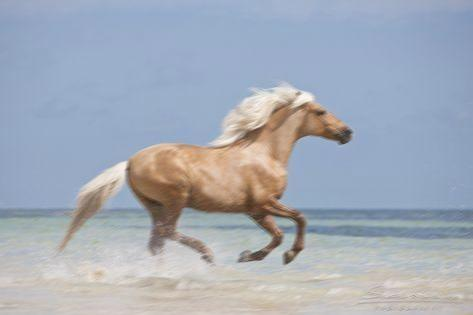horse: (53, 79, 352, 267)
